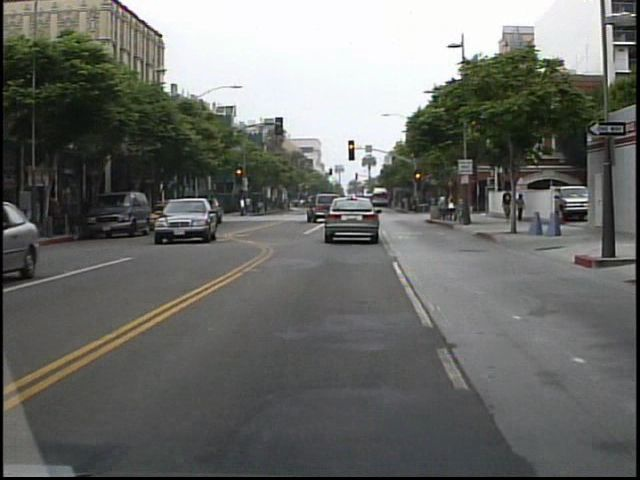person: (436, 189, 454, 223), (500, 186, 515, 226), (515, 189, 530, 225), (239, 193, 249, 219)
